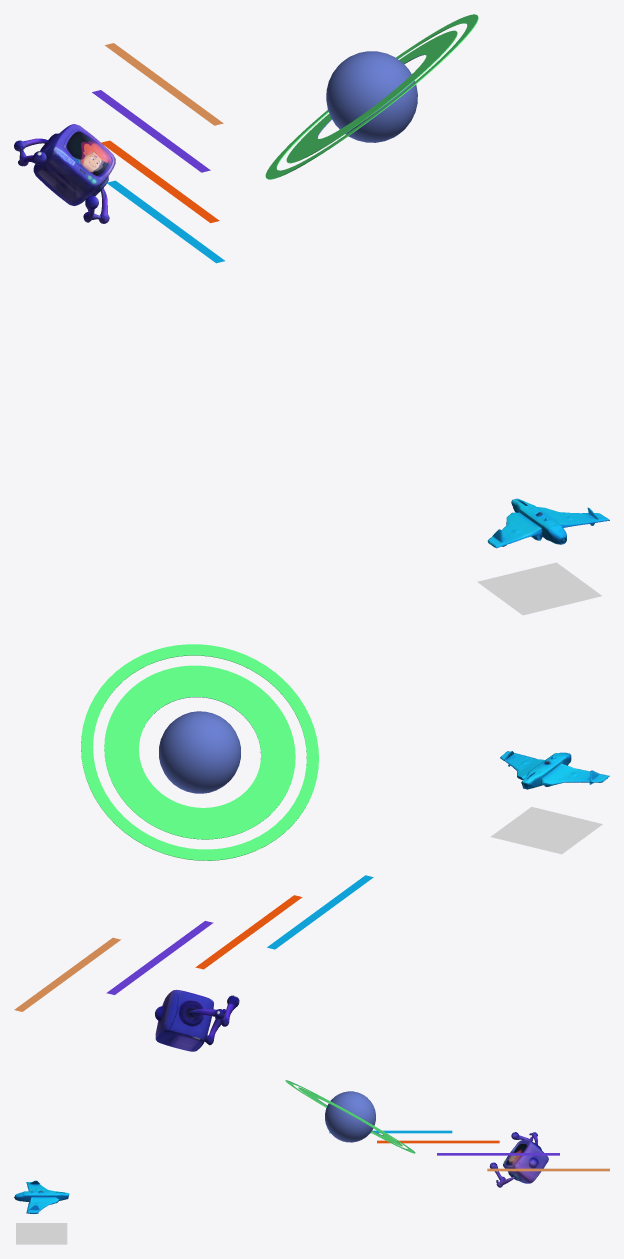
Rendered from animation.glb.
3 renders of one model, top to bottom at view 1: azimuth 30°, elevation 25°; view 2: azimuth 150°, elevation 25°; view 3: azimuth 270°, elevation 25°, orthographic. The views are drawn at different scales.
Visible parts, largest first — view 1: Sphere, Mesh_0.003, Cube, Mesh_0.004, Plane.004, Plane.007, Plane.005, Plane.006; view 2: Sphere, Mesh_0.003, Cube, Mesh_0.004, Plane.006, Plane.004, Plane.005, Plane.007; view 3: Sphere, Mesh_0.003, Cube, Mesh_0.004, Plane.004, Plane.006, Plane.005, Plane.007.
Boxes of the visible parts, box(x1,y1,x2,y2) form: Sphere: box(265, 14, 478, 179); Mesh_0.003: box(14, 124, 115, 223); Cube: box(477, 562, 601, 615); Mesh_0.004: box(487, 498, 609, 548); Plane.004: box(105, 43, 223, 125); Plane.007: box(106, 180, 224, 263); Plane.005: box(92, 90, 210, 172); Plane.006: box(101, 140, 219, 223); Sphere: box(81, 644, 318, 860); Mesh_0.003: box(155, 989, 239, 1051); Cube: box(490, 806, 602, 854); Mesh_0.004: box(500, 751, 609, 789); Plane.006: box(195, 895, 302, 969); Plane.004: box(14, 937, 120, 1011); Plane.005: box(106, 921, 213, 994); Plane.007: box(267, 875, 373, 949); Sphere: box(285, 1080, 415, 1153); Mesh_0.003: box(489, 1132, 548, 1187); Cube: box(16, 1223, 67, 1244); Mesh_0.004: box(14, 1180, 69, 1213); Plane.004: box(487, 1168, 609, 1171); Plane.006: box(377, 1140, 499, 1143); Plane.005: box(437, 1153, 559, 1155); Plane.007: box(329, 1130, 452, 1133).
Size of what is drawn, in the model's own units: 5.61 by 6.12 by 17.41.
8 materials, 2 textured.
